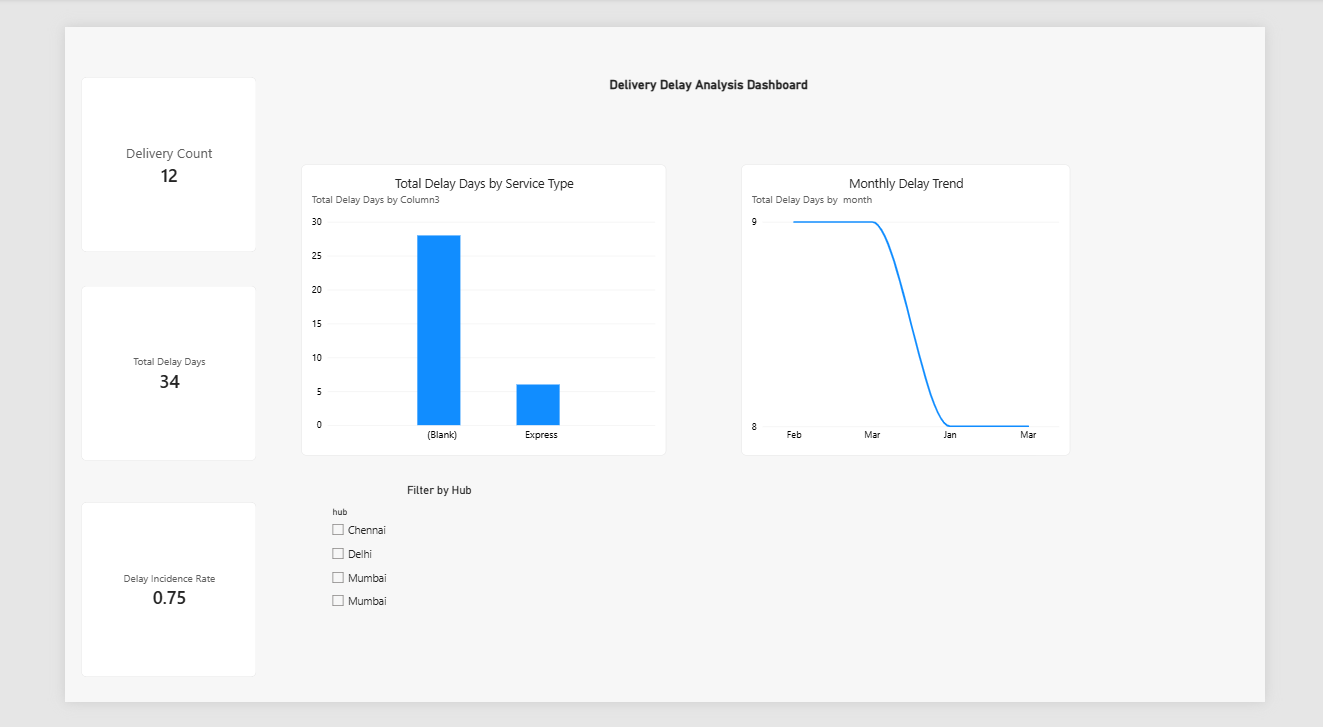

Layout of this report page (visuals, bound fields, positions):
{"tool":"powerbi","page":{"name":"Page 1","canvas":[1920,1080],"ordinal":0},"visuals":[{"type":"cardVisual","fields":{"Data":["Measures (2).Delivery Count"]},"box":[25.8,79.1,280,280],"z":0},{"type":"cardVisual","fields":{"Data":["Measures (2).Total Delay Days"]},"box":[25.8,414.1,280,280],"z":1000},{"type":"cardVisual","fields":{"Data":["Measures (2).Delay Incidence Rate"]},"box":[25.8,760.1,280,280],"z":2000},{"type":"shape","title":"Delivery Delay Analysis Dashboard","box":[536,80,988,42],"z":2001},{"type":"clusteredColumnChart","title":"Total Delay Days by Service Type","fields":{"Category":["routes.Column3"],"Y":["Measures (2).Total Delay Days"]},"box":[377.5,220,584,465.2],"z":2002},{"type":"lineChart","title":"Monthly Delay Trend ","fields":{"Category":["deliveries. month"],"Y":["Measures (2).Total Delay Days"]},"box":[1082.5,220,526.2,465.2],"z":2003},{"type":"slicer","title":"Filter by Hub","fields":{"Values":["deliveries. hub"]},"box":[420,730,357.5,310],"z":2004}]}

Visuals, with their boxes in screenshot pixels (x1, y1, x2, y2), scaled from the page's 1920x1080 canvas onto the 1323x727 screenshot:
cardVisual - Measures (2).Delivery Count: (18,53,211,242)
cardVisual - Measures (2).Total Delay Days: (18,279,211,467)
cardVisual - Measures (2).Delay Incidence Rate: (18,512,211,700)
"Delivery Delay Analysis Dashboard" shape: (369,54,1050,82)
"Total Delay Days by Service Type" clusteredColumnChart: (260,148,663,461)
"Monthly Delay Trend " lineChart: (746,148,1108,461)
"Filter by Hub" slicer: (289,491,536,700)
